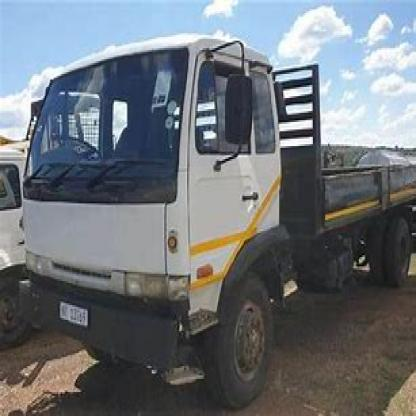dump_truck: (18, 33, 409, 407)
